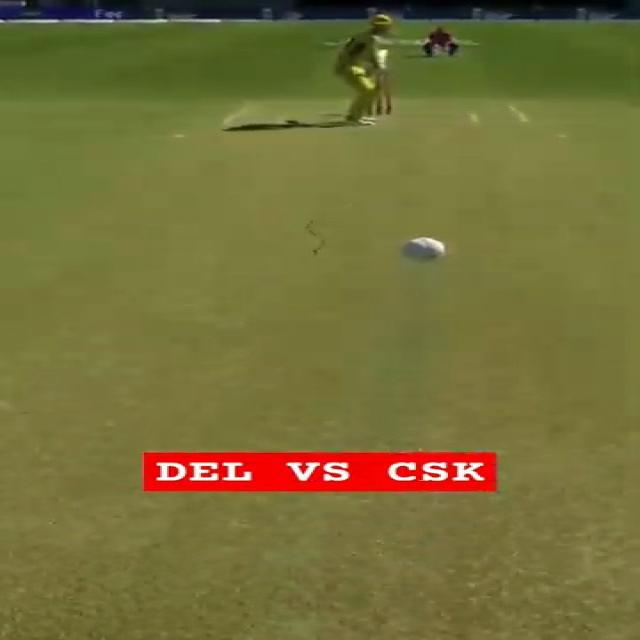ball: (402, 236, 448, 264)
